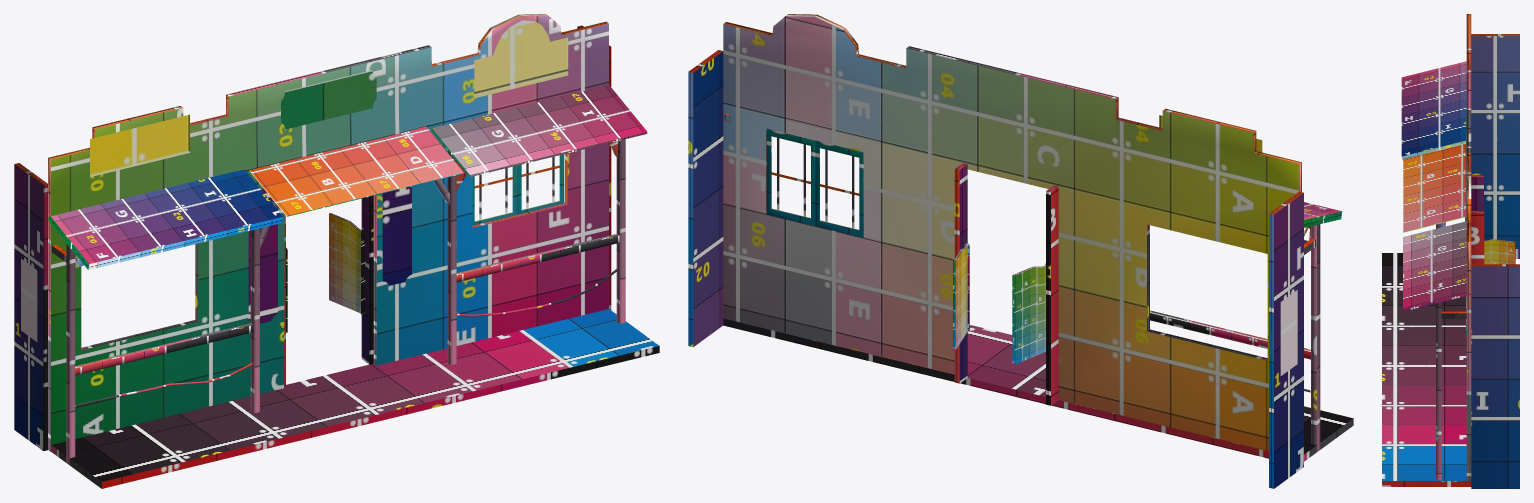
The model's file is WestStorefront_low.fbx.
3 renders of one model, left to right at view 1: azimuth 30°, elevation 25°; view 2: azimuth 150°, elevation 25°; view 3: azimuth 270°, elevation 25°, orthographic. The views are drawn at different scales.
Visible parts, largest first — view 1: Walls_low, Roofs_low, Floor_low, Posters_low, VertBars_low, HorBars_low, Doors_low, Window_low, Rope_low, JailBars_low; view 2: Walls_low, Floor_low, Doors_low, Window_low, VertBars_low, Posters_low, HorBars_low, JailBars_low; view 3: Walls_low, Floor_low, Roofs_low, VertBars_low, Doors_low, Bars_low.
Part boxes in pixels (bbox=[...]): Walls_low: bbox=[14, 14, 611, 451]; Roofs_low: bbox=[48, 85, 647, 270]; Floor_low: bbox=[51, 309, 659, 488]; Posters_low: bbox=[21, 20, 568, 341]; VertBars_low: bbox=[66, 139, 625, 464]; HorBars_low: bbox=[75, 234, 619, 375]; Doors_low: bbox=[286, 213, 365, 332]; Window_low: bbox=[472, 154, 564, 225]; Rope_low: bbox=[75, 268, 618, 406]; JailBars_low: bbox=[474, 156, 559, 220]; Walls_low: bbox=[688, 14, 1303, 488]; Floor_low: bbox=[723, 318, 1353, 461]; Doors_low: bbox=[953, 243, 1045, 364]; Window_low: bbox=[766, 128, 863, 237]; VertBars_low: bbox=[1311, 224, 1320, 451]; Posters_low: bbox=[1159, 115, 1297, 375]; HorBars_low: bbox=[1150, 310, 1310, 359]; JailBars_low: bbox=[771, 137, 859, 228]; Walls_low: bbox=[1465, 14, 1519, 488]; Floor_low: bbox=[1382, 253, 1471, 486]; Roofs_low: bbox=[1401, 61, 1470, 311]; VertBars_low: bbox=[1436, 223, 1441, 480]; Doors_low: bbox=[1484, 239, 1515, 264]; Bars_low: bbox=[1441, 311, 1466, 318].
Bounding box in the file's own units: 484 × 261 × 121.
4 materials, 4 textured.
